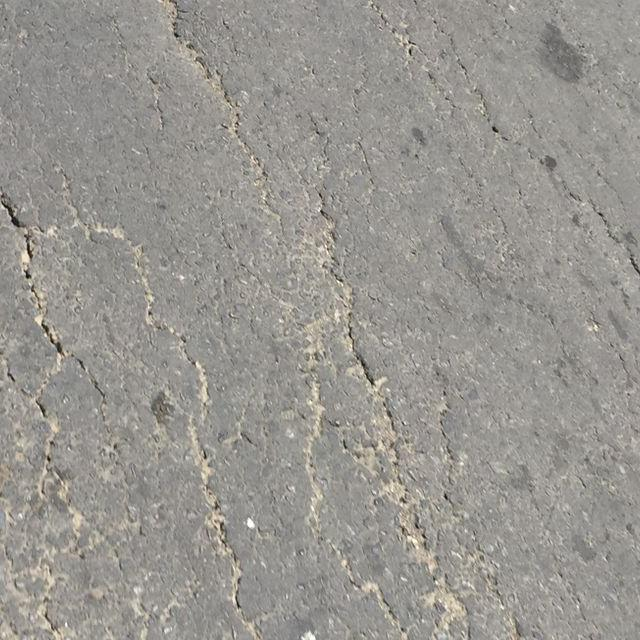retak_kulit_buaya: (276, 310, 566, 640), (0, 0, 346, 173)
